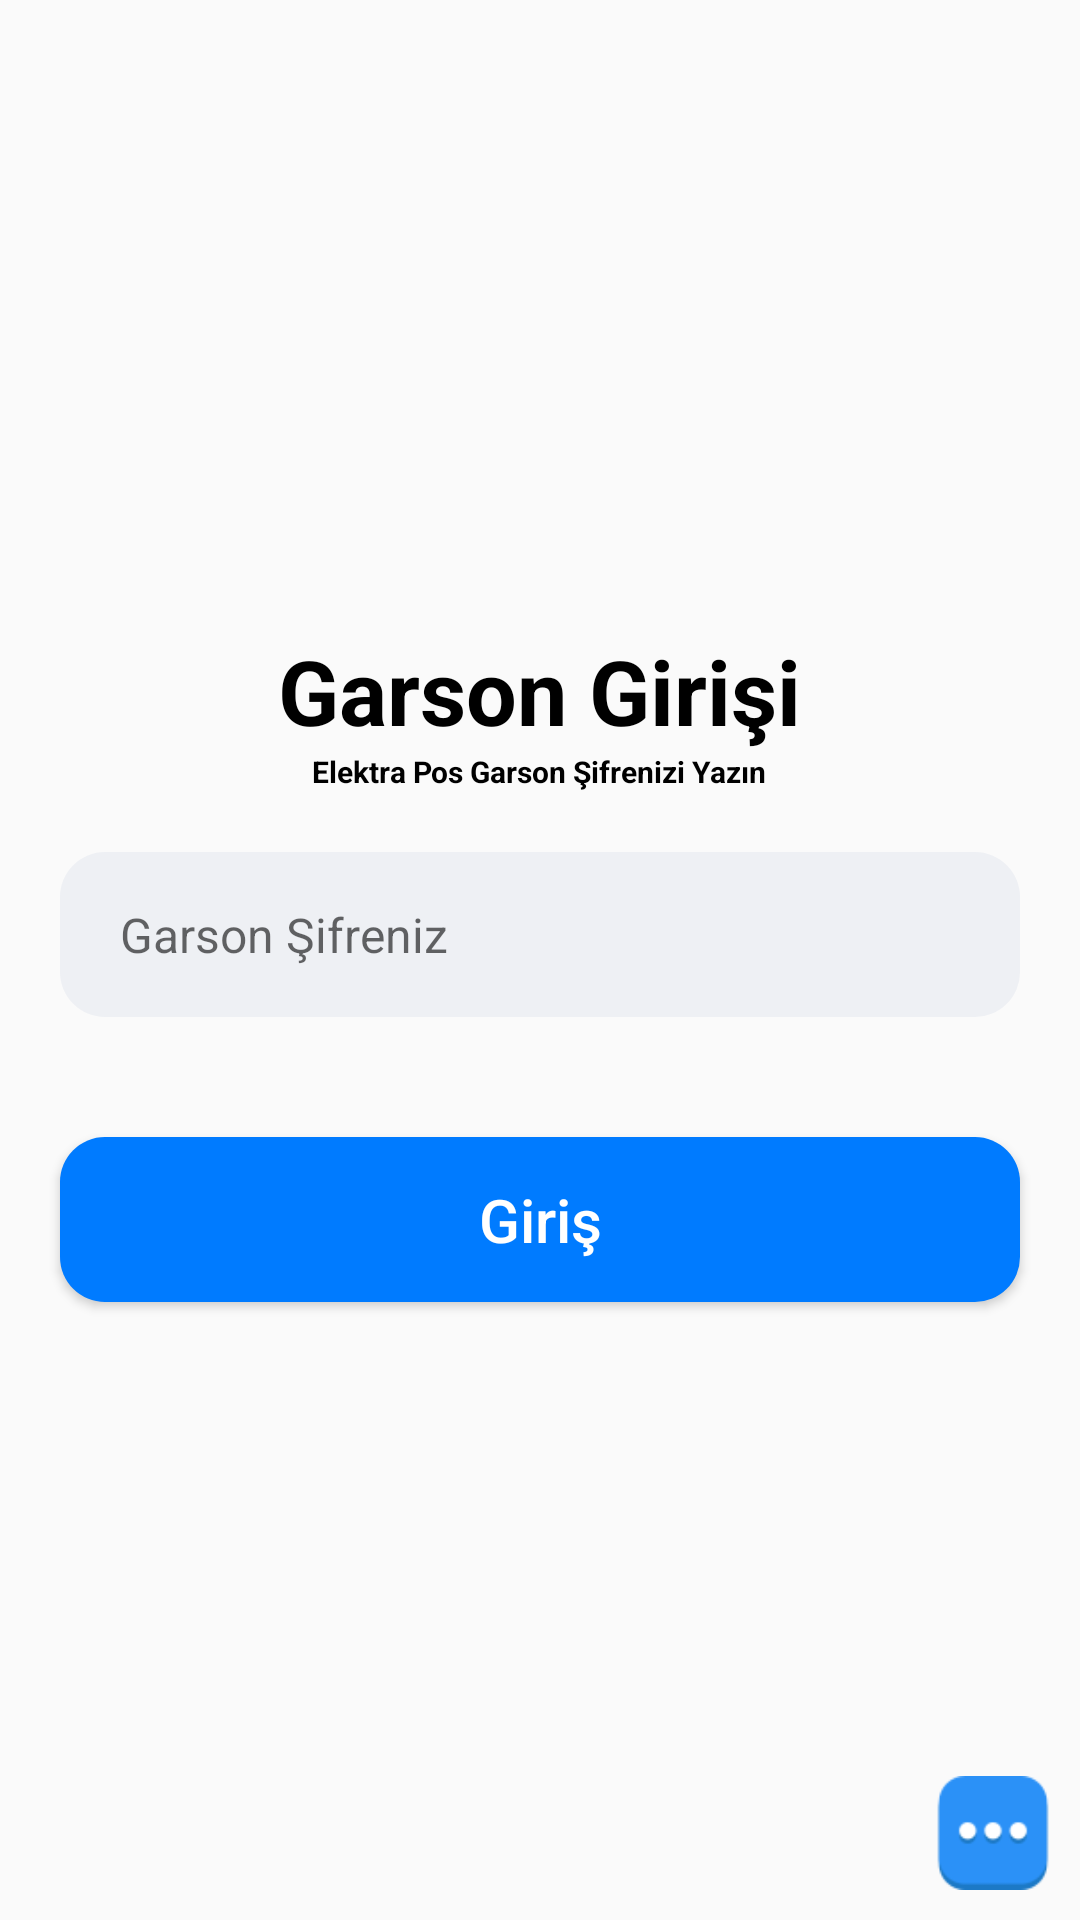

Point at icon controls on the screen. Image size 1080px x 1920px, points as (x,y).
options: (993,1833)
